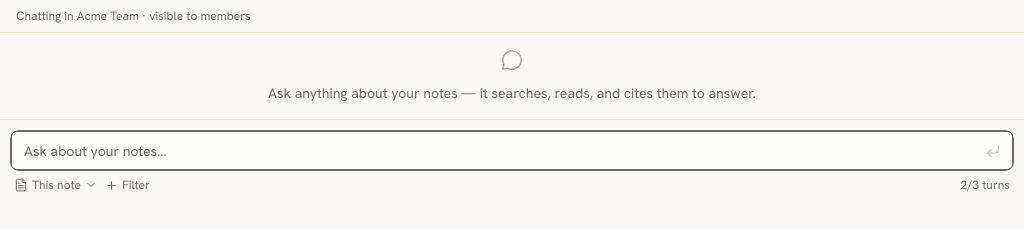
Test case: ChatPanel turn allowance (#69) › refreshes the allowance after a completed send
Expected: the text "2/3 turns" is shown, [961, 177, 1010, 193]
Step 1. Type "q" into the text box labelled "Ask about your notes…" → (512, 150), box [11, 131, 1013, 170]
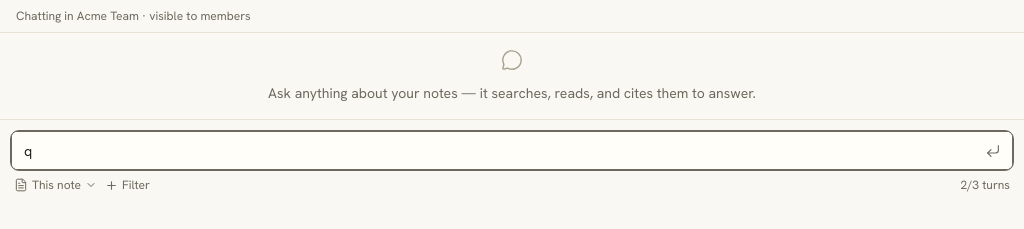
Step 2. Click the button named "Send" → (993, 150), box [979, 136, 1007, 164]
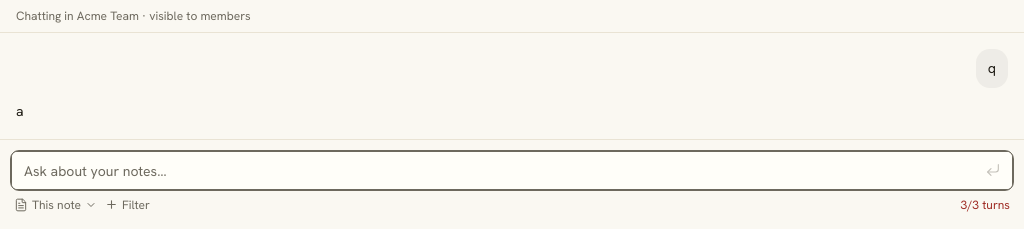
Result: the text "3/3 turns" is shown at [961, 196, 1010, 212]
